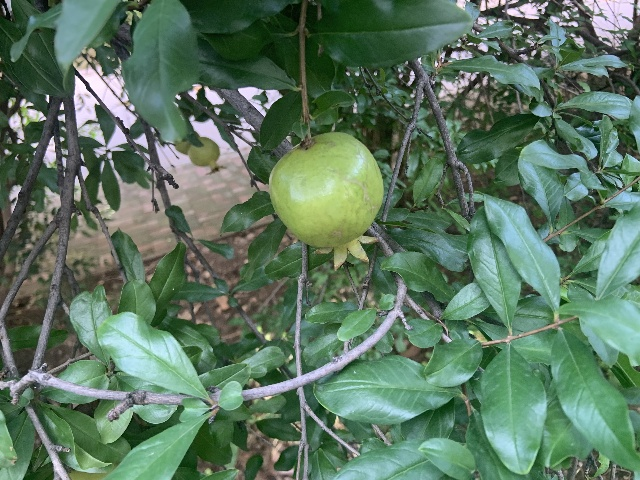mid-growth: (269, 131, 384, 270), (188, 136, 227, 176)
